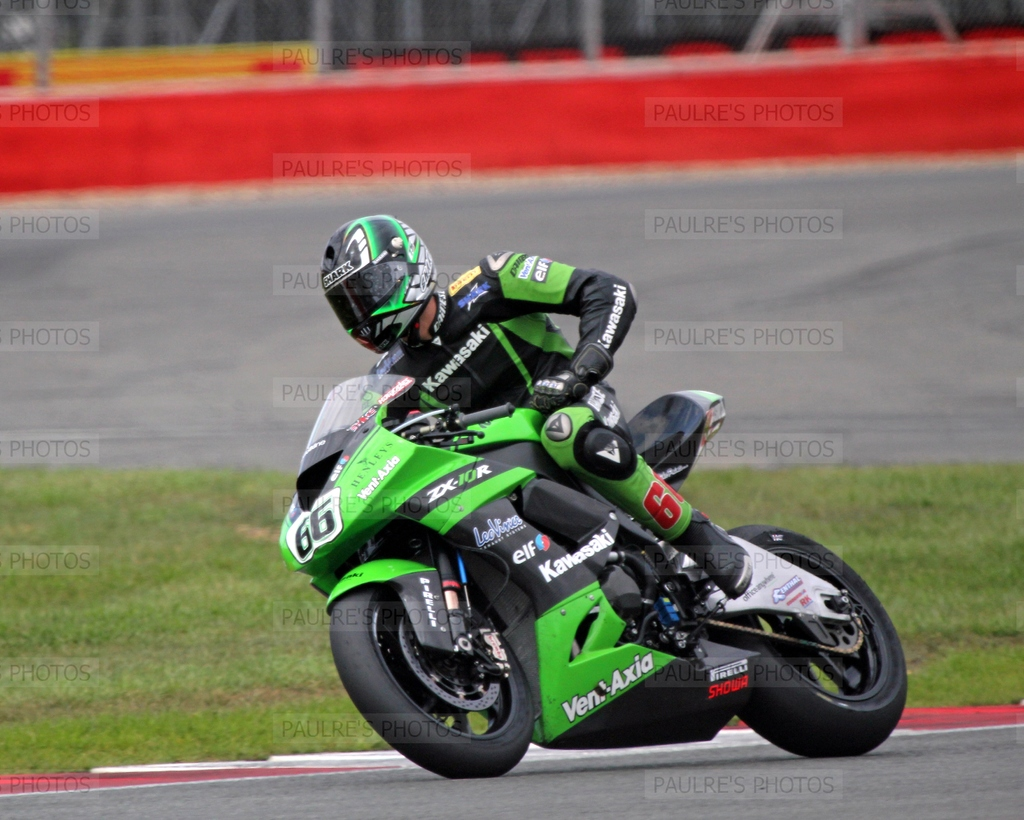Person: (320, 215, 753, 600)
